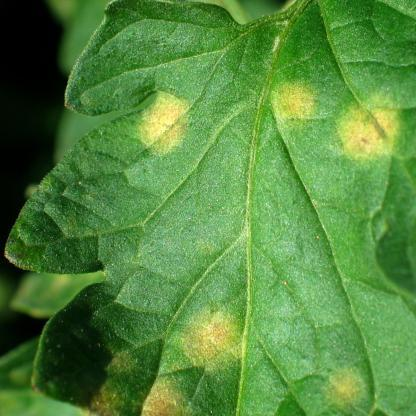Tomato mold leaf: (9, 6, 411, 416)
